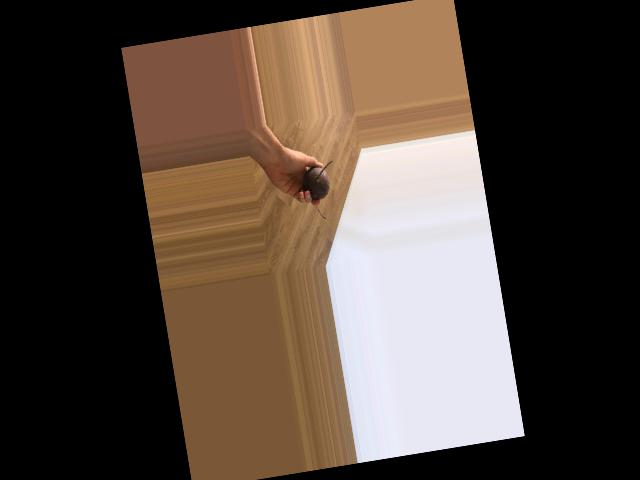beet: (300, 161, 341, 222)
